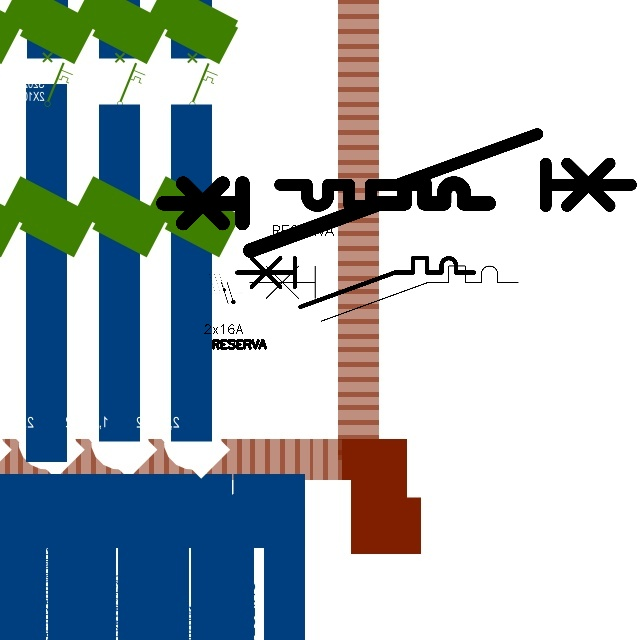interruptor_termomagnetico: (271, 125, 640, 215), (155, 175, 497, 258), (242, 259, 524, 328), (231, 252, 479, 313)
